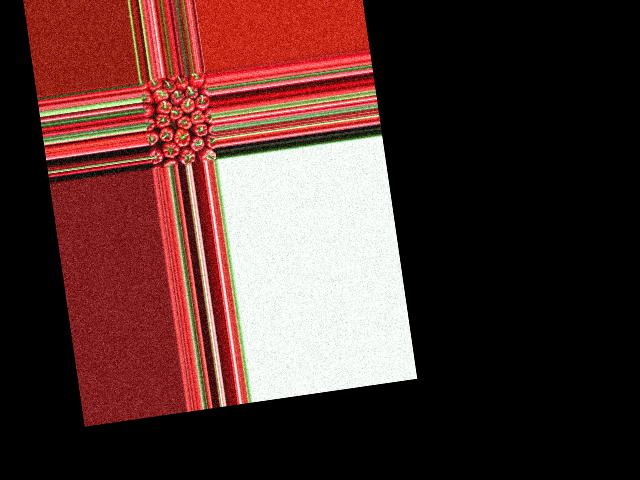bell_pepper: (190, 72, 206, 88)
